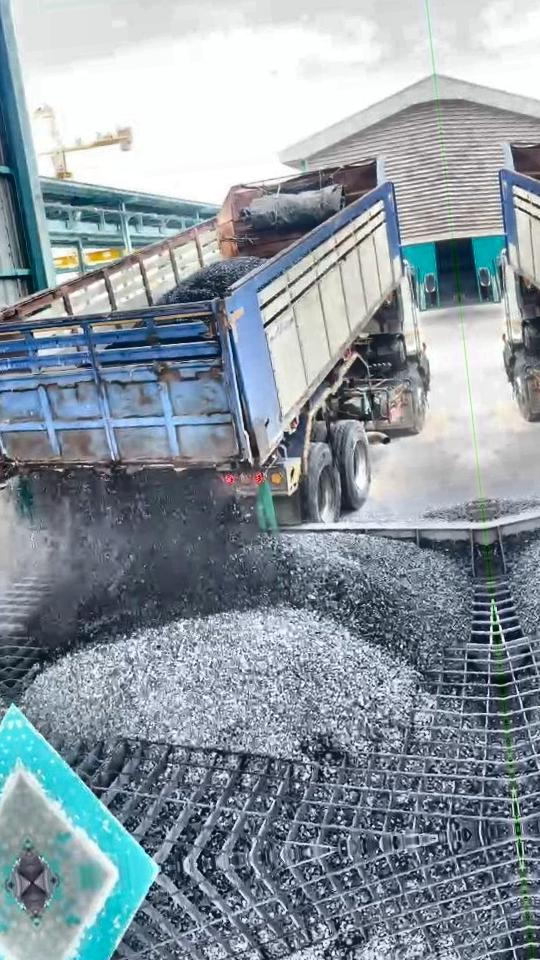gravel: (22, 607, 417, 758), (29, 472, 254, 654), (241, 534, 472, 668), (156, 256, 262, 304), (425, 499, 483, 521)
